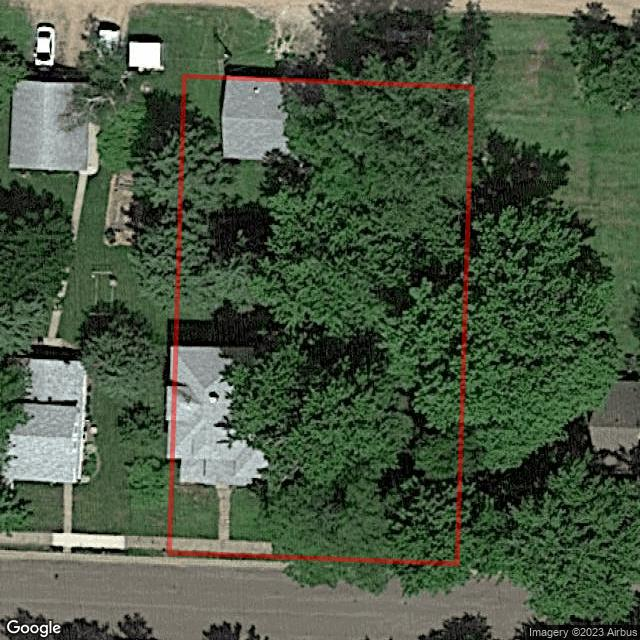Driveway: (271, 0, 323, 59)
House: (176, 344, 266, 481), (220, 80, 297, 161)
